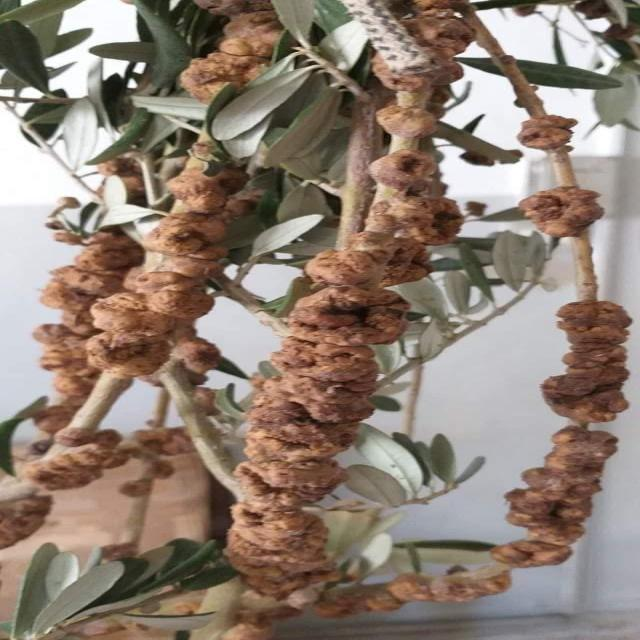Tuberculosis: (228, 251, 403, 599), (32, 232, 141, 418), (491, 426, 617, 568), (0, 430, 130, 550), (86, 268, 225, 378), (540, 300, 631, 426), (143, 167, 249, 269), (180, 0, 281, 103), (320, 570, 511, 616), (391, 0, 473, 87), (373, 197, 463, 246), (519, 186, 603, 238), (370, 150, 447, 198), (377, 102, 439, 141), (517, 115, 577, 154)
